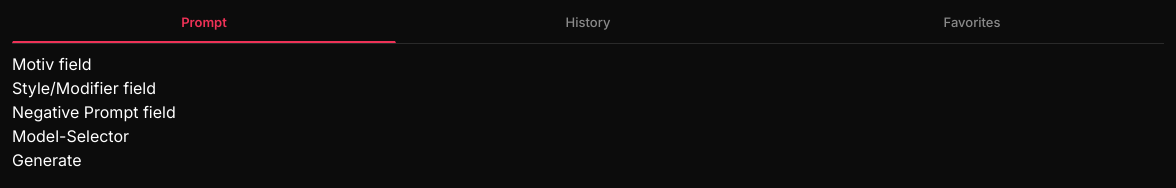
Scenario: Prompt Tabs Container › AC-5: should show favorites content and hide prompt content when Favorites tab is clicked
Expected: the element with test id "prompt-content" is shown, [12,54,176,172]
Click on Favorites tab
Click the tab with test id "tab-favorites": click(972, 27) [780,12,1164,42]
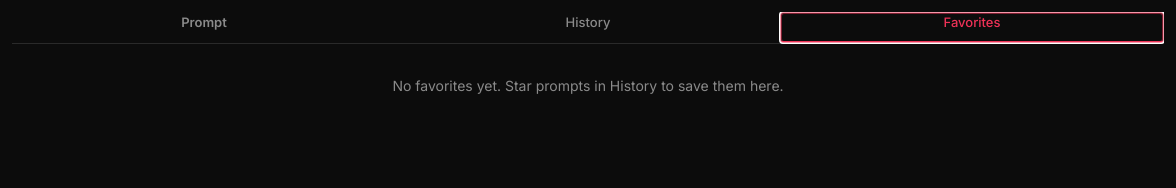
Now the text "No favorites yet. Star prompts in History to save them here." is shown, box [392,76,784,94]
Now the element with test id "prompt-content" is gone
